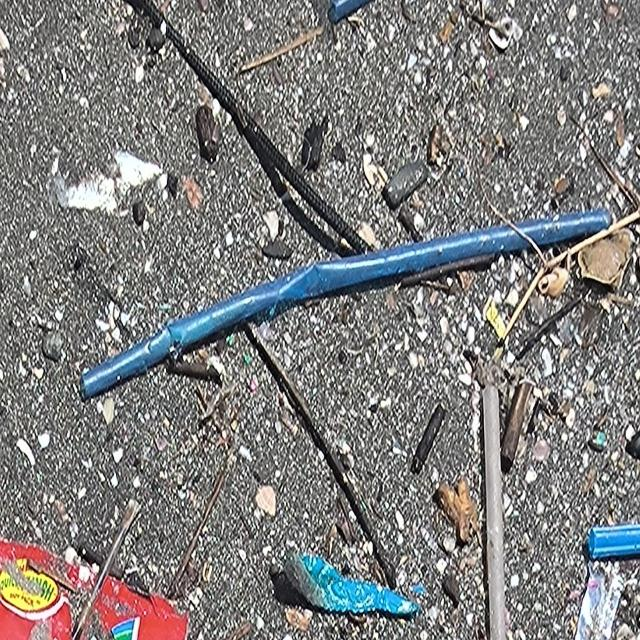plastic_waste: (79, 207, 616, 403), (482, 382, 508, 640)
